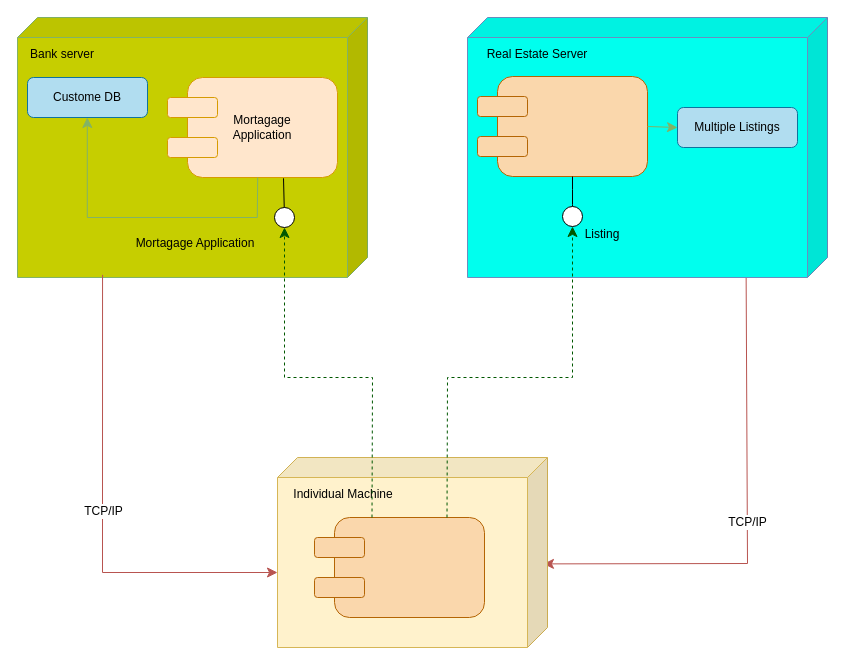
Some shapes in this 845 by 665 pixel diagram are drawn without their labels. Each missing label, with the box of its shape:
Buyer Interface: (334, 516, 484, 618)
Real Estate Listing: (496, 76, 648, 176)
